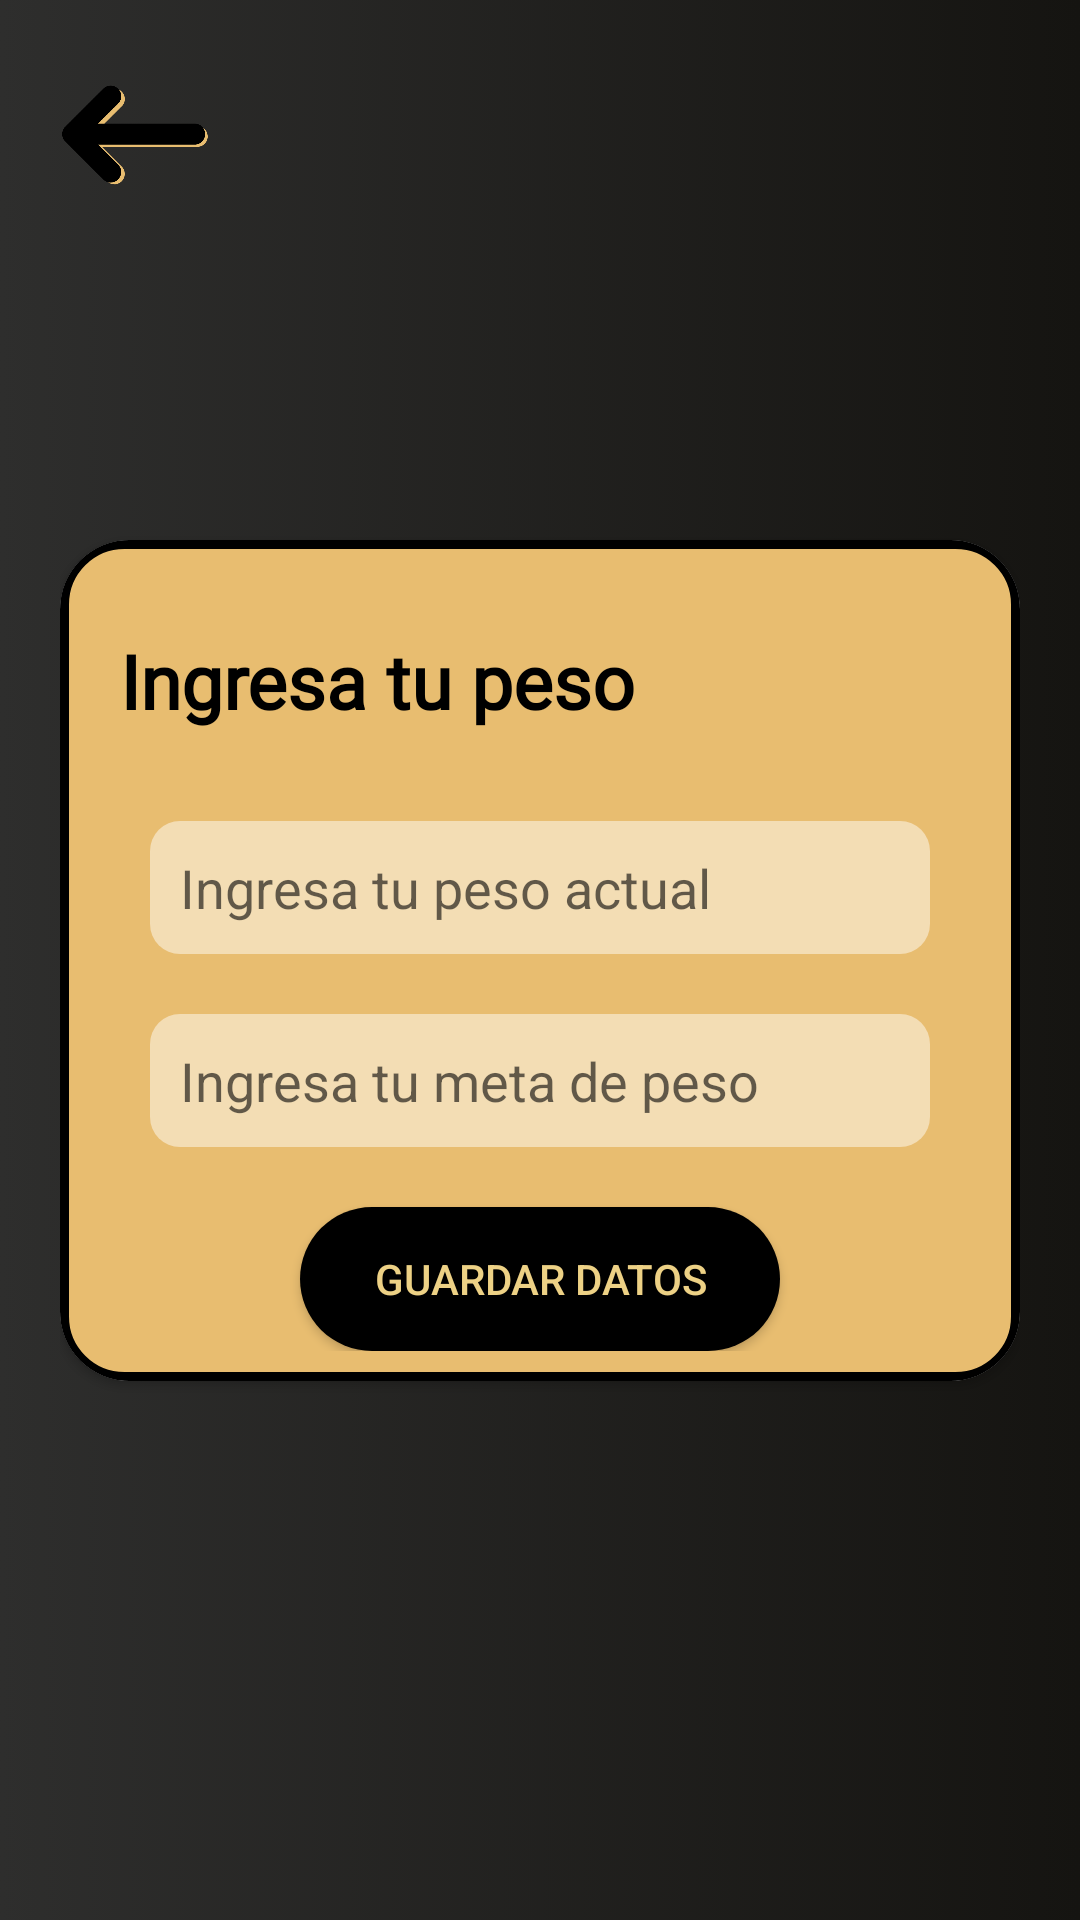

Named icons in this screenshot (1080 × 1920) and their bounding boxes, {"x1": x1, "y1": y1, "x2": x2, "y2": y2}:
flechanegrodorado: {"x1": 62, "y1": 86, "x2": 208, "y2": 185}
